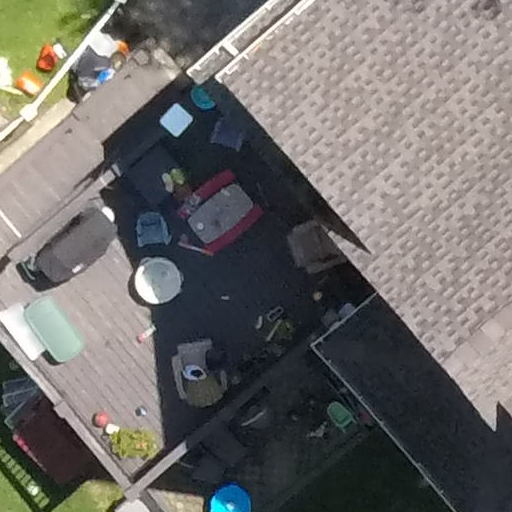bucket: (10, 69, 47, 100), (31, 39, 58, 71)
container: (21, 296, 83, 368), (1, 307, 42, 356)
